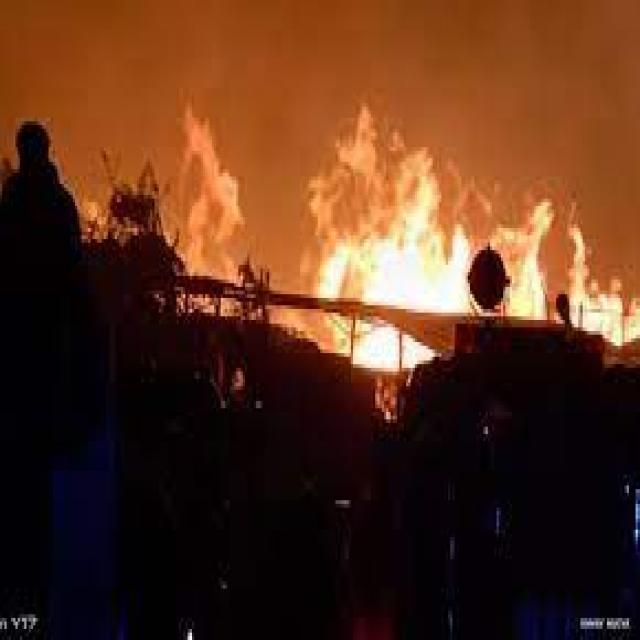Fire: (514, 213, 633, 356), (342, 232, 465, 318), (338, 323, 426, 385)
Smoke: (180, 104, 604, 207)
